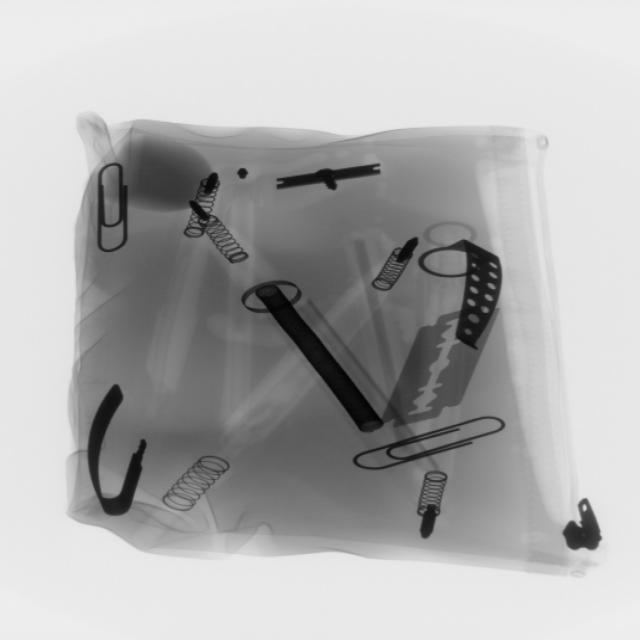BLADE: (383, 306, 491, 437)
